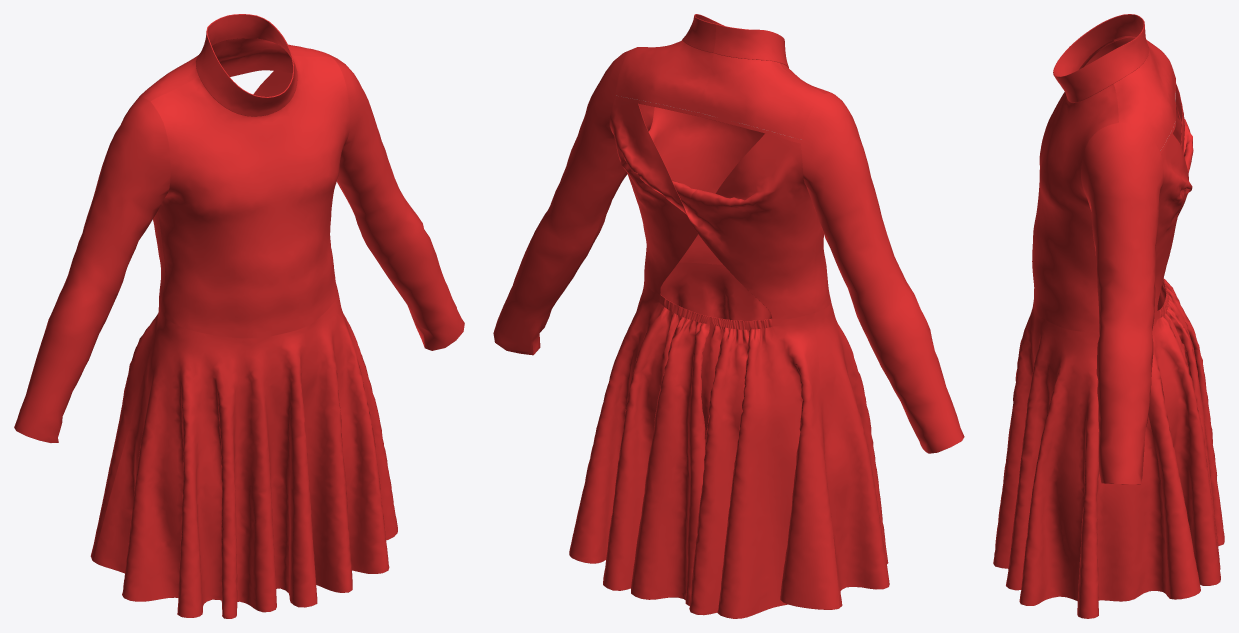
Rendered from outfit.glb.
The picture shows the model from 3 angles, left to right: view 1: azimuth 30°, elevation 25°; view 2: azimuth 150°, elevation 25°; view 3: azimuth 270°, elevation 25°; orthographic projection. The views are drawn at different scales.
Visible parts, largest first — view 1: Cloth_1; view 2: Cloth_1; view 3: Cloth_1.
Part boxes in pixels (bbox=[...]): Cloth_1: bbox=[14, 14, 464, 618]; Cloth_1: bbox=[493, 14, 964, 618]; Cloth_1: bbox=[993, 14, 1224, 618].
Size of the model in its own units: 0.7083 by 0.8209 by 0.3191.
